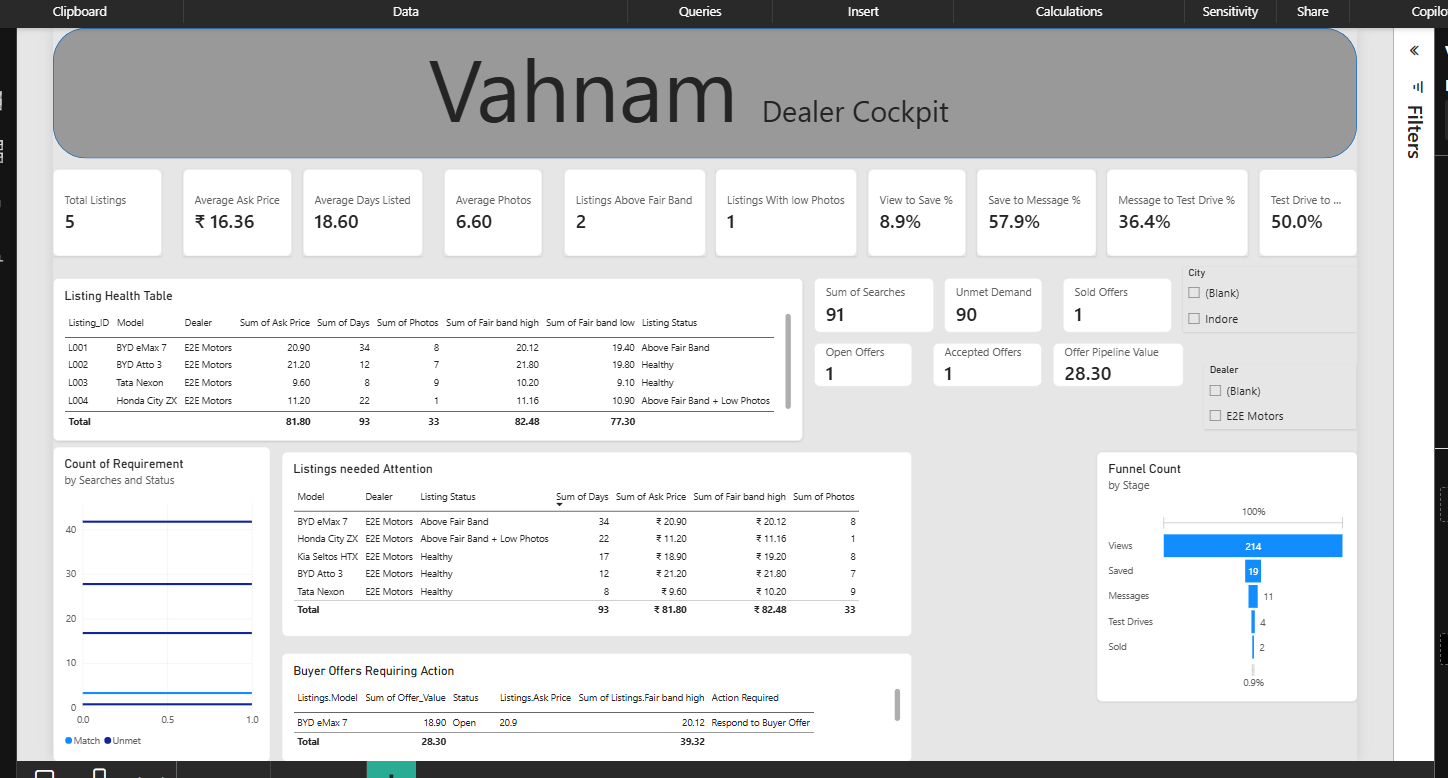

What the dashboard file says about the page in this screenshot:
{"tool":"powerbi","page":{"name":"Page 1","canvas":[1920,1080],"ordinal":0},"visuals":[{"type":"shape","box":[0,0,1920,192],"z":0},{"type":"textbox","box":[0,0,1872,192],"z":1000},{"type":"cardVisual","fields":{"Data":["Buyer_Searches.Total Listings"]},"box":[0,208,160,128],"z":2000},{"type":"cardVisual","fields":{"Data":["Buyer_Searches.Average Ask Price"]},"box":[192,208,160,128],"z":3000},{"type":"cardVisual","fields":{"Data":["Buyer_Searches.Average Days Listed"]},"box":[368,208,176,128],"z":4000},{"type":"cardVisual","fields":{"Data":["Buyer_Searches.Average Photos"]},"box":[576,208,144,128],"z":5000},{"type":"slicer","fields":{"Values":["Listings.Dealer"]},"box":[1696,496,224,96],"z":6000},{"type":"slicer","fields":{"Values":["Listings.City"]},"box":[1664,352,256,96],"z":7000},{"type":"tableEx","fields":{"Values":["Listings.Listing_ID","Listings.Model","Listings.Dealer","Sum(Listings.Ask Price)","Sum(Listings.Days)","Sum(Listings.Photos)","Sum(Listings.Fair band high)","Sum(Listings.Fair band low)","Listings.Listing Status"]},"box":[0,368,1104,240],"z":8000},{"type":"cardVisual","fields":{"Data":["Buyer_Searches.Listings Above Fair Band"]},"box":[752,208,208,128],"z":9000},{"type":"cardVisual","fields":{"Data":["Buyer_Searches.Listings With low Photos"]},"box":[976,208,208,128],"z":10000},{"type":"funnel","fields":{"Category":["Funnel Stages.Stage"],"Y":["Funnel Stages.Funnel Count"]},"box":[1472,664,448,416],"z":11000},{"type":"cardVisual","fields":{"Data":["Buyer_Searches.View to Save %"]},"box":[1200,208,144,128],"z":12000},{"type":"cardVisual","fields":{"Data":["Buyer_Searches.Save to Message %"]},"box":[1360,208,176,128],"z":13000},{"type":"cardVisual","fields":{"Data":["Buyer_Searches.Message to Test Drive %"]},"box":[1552,208,208,128],"z":14000},{"type":"cardVisual","fields":{"Data":["Buyer_Searches.Test Drive to Sold %"]},"box":[1776,208,144,128],"z":15000},{"type":"clusteredBarChart","fields":{"Category":["Buyer_Searches.Searches"],"Series":["Buyer_Searches.Status"],"Y":["CountNonNull(Buyer_Searches.Requirement)"]},"box":[0,640,576,384],"z":16000},{"type":"cardVisual","fields":{"Data":["Sum(Buyer_Searches.Searches)"]},"box":[1120,368,160,112],"z":17000},{"type":"cardVisual","fields":{"Data":["Buyer_Searches.Unmet Demand"]},"box":[1360,368,176,112],"z":18000},{"type":"tableEx","title":"Listings needed Attention","fields":{"Values":["Listings.Model","Listings.Dealer","Listings.Listing Status","Sum(Listings.Days)","Sum(Listings.Ask Price)","Sum(Listings.Fair band high)","Sum(Listings.Photos)"]},"box":[592,640,864,384],"z":19000}]}

Visuals, with their boxes on the page's 1920x1080 design canvas (x1, y1, x2, y2). These are canvas units, not pixel positions in the 1448x778 screenshot, which may show the page scaled, cropped or inside an application window:
shape: [left=0, top=0, right=1920, bottom=192]
textbox: [left=0, top=0, right=1872, bottom=192]
cardVisual - Buyer_Searches.Total Listings: [left=0, top=208, right=160, bottom=336]
cardVisual - Buyer_Searches.Average Ask Price: [left=192, top=208, right=352, bottom=336]
cardVisual - Buyer_Searches.Average Days Listed: [left=368, top=208, right=544, bottom=336]
cardVisual - Buyer_Searches.Average Photos: [left=576, top=208, right=720, bottom=336]
slicer - Listings.Dealer: [left=1696, top=496, right=1920, bottom=592]
slicer - Listings.City: [left=1664, top=352, right=1920, bottom=448]
tableEx - Listings.Listing_ID x Listings.Model: [left=0, top=368, right=1104, bottom=608]
cardVisual - Buyer_Searches.Listings Above Fair Band: [left=752, top=208, right=960, bottom=336]
cardVisual - Buyer_Searches.Listings With low Photos: [left=976, top=208, right=1184, bottom=336]
funnel - Funnel Stages.Stage x Funnel Stages.Funnel Count: [left=1472, top=664, right=1920, bottom=1080]
cardVisual - Buyer_Searches.View to Save %: [left=1200, top=208, right=1344, bottom=336]
cardVisual - Buyer_Searches.Save to Message %: [left=1360, top=208, right=1536, bottom=336]
cardVisual - Buyer_Searches.Message to Test Drive %: [left=1552, top=208, right=1760, bottom=336]
cardVisual - Buyer_Searches.Test Drive to Sold %: [left=1776, top=208, right=1920, bottom=336]
clusteredBarChart - Buyer_Searches.Searches x Buyer_Searches.Status: [left=0, top=640, right=576, bottom=1024]
cardVisual - Sum(Buyer_Searches.Searches): [left=1120, top=368, right=1280, bottom=480]
cardVisual - Buyer_Searches.Unmet Demand: [left=1360, top=368, right=1536, bottom=480]
"Listings needed Attention" tableEx: [left=592, top=640, right=1456, bottom=1024]
